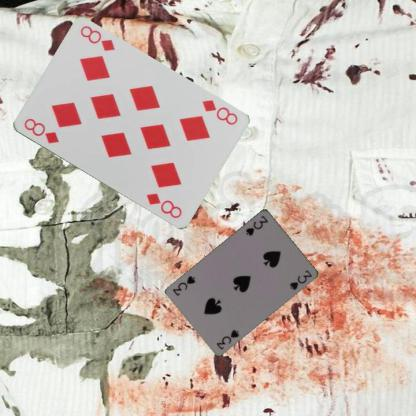3s: (214, 326, 240, 351), (243, 213, 269, 237)
8d: (198, 97, 238, 127), (21, 116, 59, 145)
